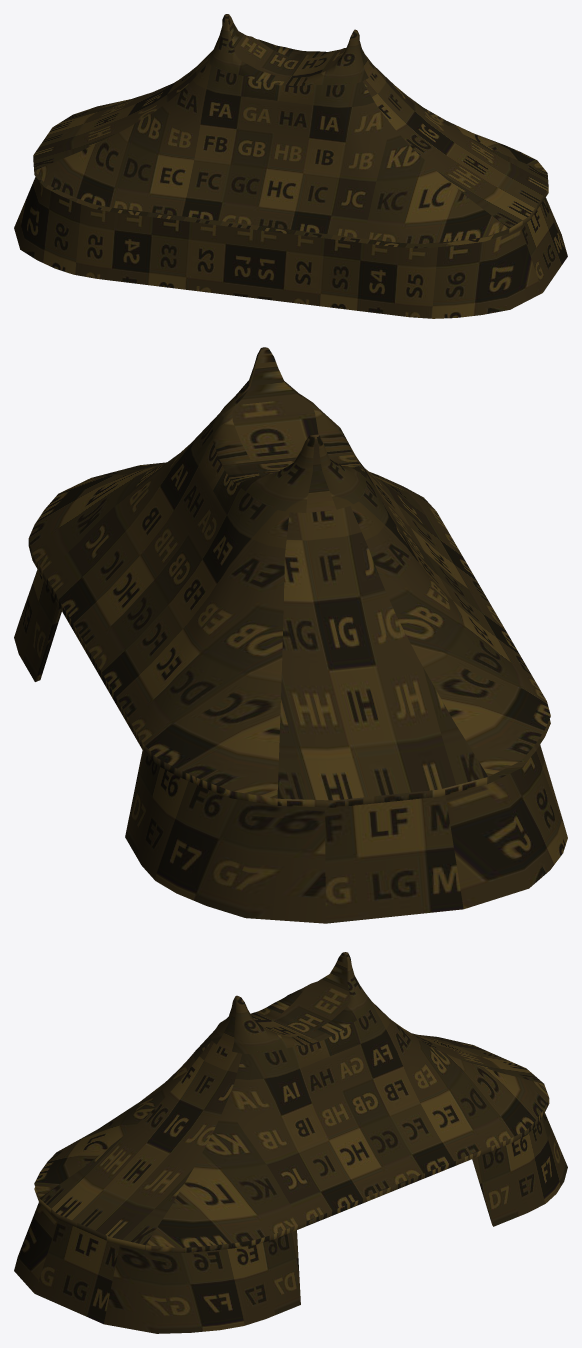
File: CircusTent.fbx
3 views of the same model, one above another, from view 1: azimuth 30°, elevation 25°; view 2: azimuth 150°, elevation 25°; view 3: azimuth 270°, elevation 25° (orthographic). The views are drawn at different scales.
Visible parts, largest first — view 1: CircusTent; view 2: CircusTent; view 3: CircusTent.
Part boxes in pixels (x1,y1,x2,y2): CircusTent: (14, 14, 567, 318); CircusTent: (14, 347, 567, 923); CircusTent: (14, 952, 567, 1333).
Bounding box in the file's own units: 13.78 × 6.84 × 14.06.
